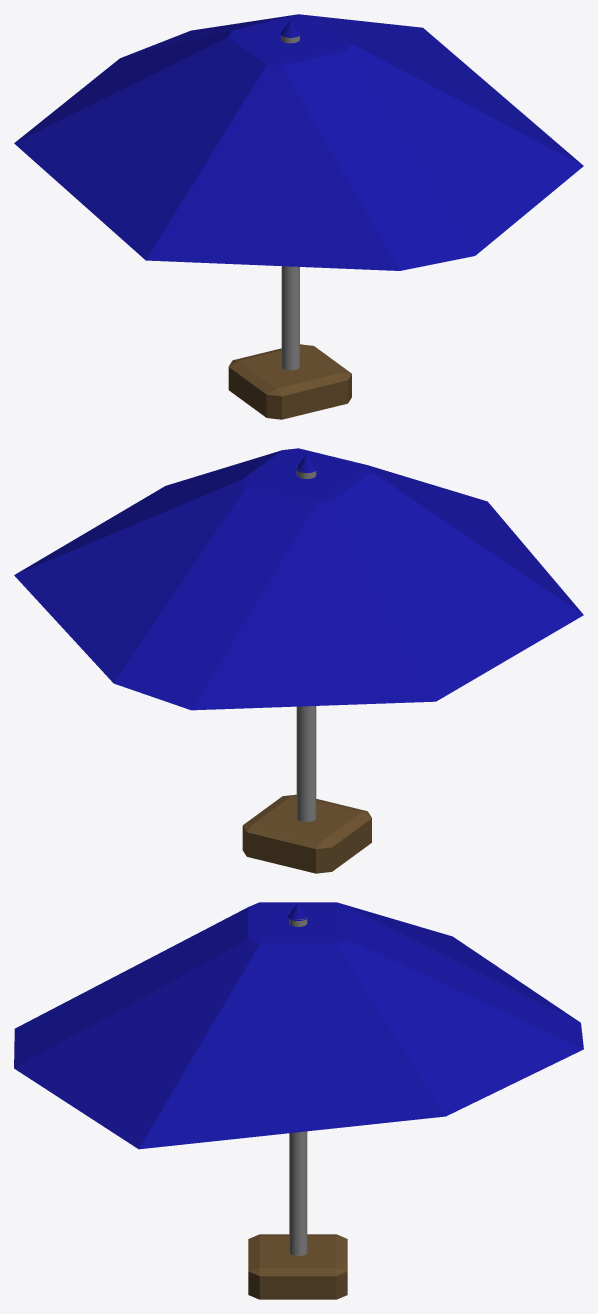
Rendered from Niebieska zasłona.fbx.
3 renders of one model, top to bottom at view 1: azimuth 30°, elevation 25°; view 2: azimuth 150°, elevation 25°; view 3: azimuth 270°, elevation 25°, orthographic. The views are drawn at different scales.
Parts seen in each view (by area): view 1: Cube.001, Cube, Cylinder.001; view 2: Cube.001, Cube, Cylinder.001; view 3: Cube.001, Cube, Cylinder.001.
Part boxes in pixels (left/top/right/bottom): Cube.001: left=14, top=14, right=583, bottom=270; Cube: left=228, top=344, right=351, bottom=419; Cylinder.001: left=281, top=35, right=299, bottom=370; Cube.001: left=14, top=448, right=583, bottom=710; Cube: left=242, top=794, right=371, bottom=873; Cylinder.001: left=296, top=466, right=316, bottom=821; Cube.001: left=14, top=902, right=583, bottom=1149; Cube: left=248, top=1234, right=347, bottom=1299; Cylinder.001: left=289, top=917, right=307, bottom=1255.
Size of the model in its own units: 980 by 843 by 1148.
